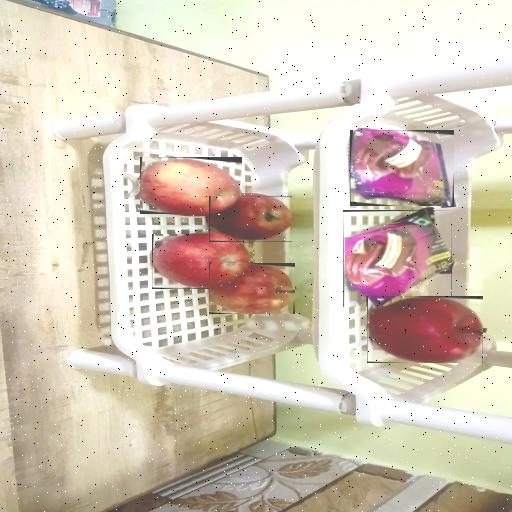Apple: (367, 296, 483, 363), (140, 157, 242, 214), (152, 234, 253, 289), (210, 264, 294, 314), (209, 196, 292, 242)
Choco Pie: (343, 210, 452, 307), (350, 130, 454, 206)
